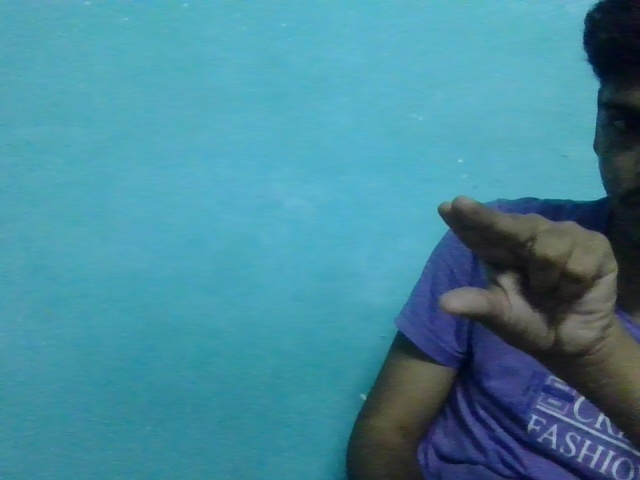no: (429, 196, 631, 373)
